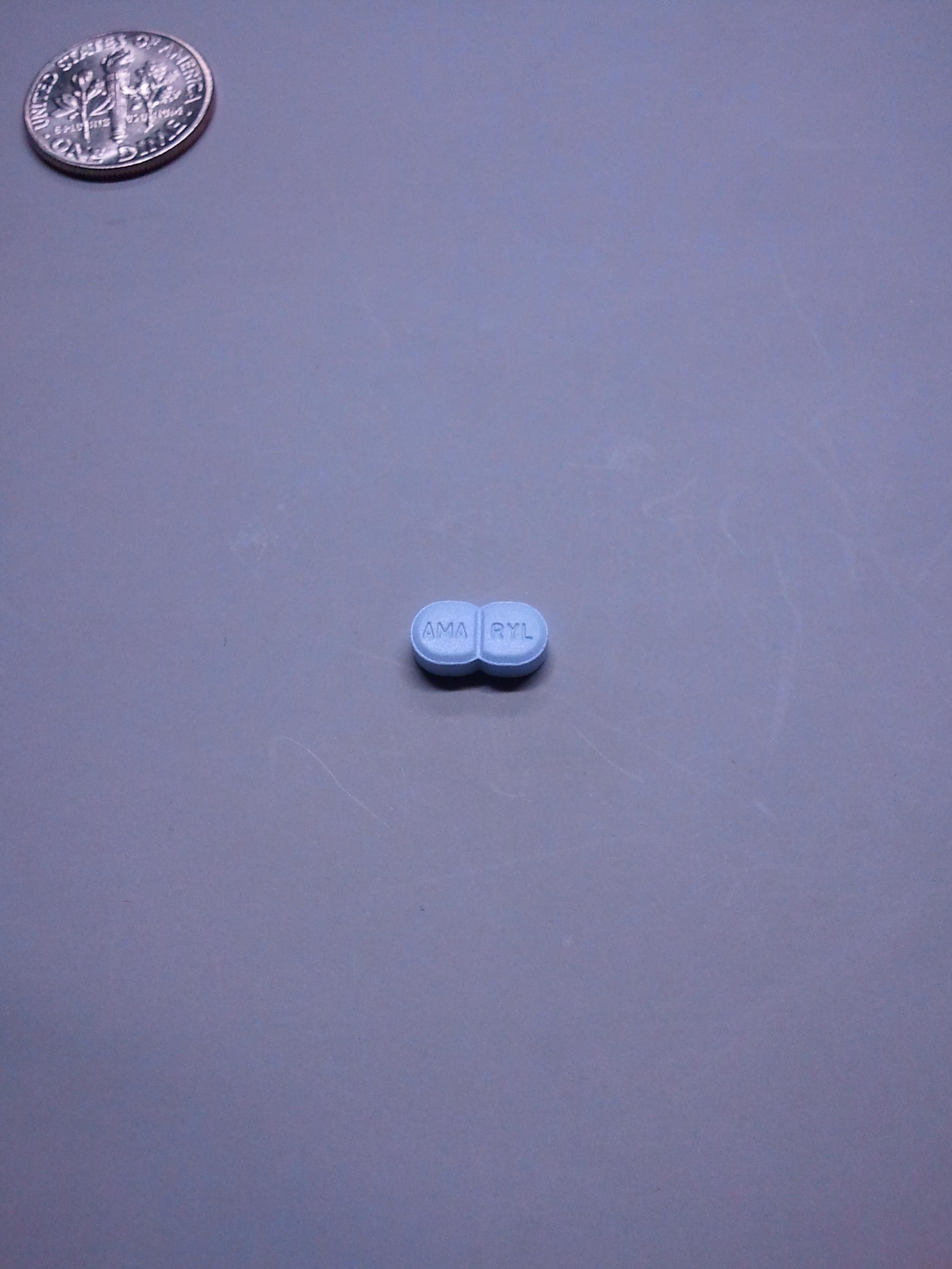Pill: (389, 582, 566, 698)
